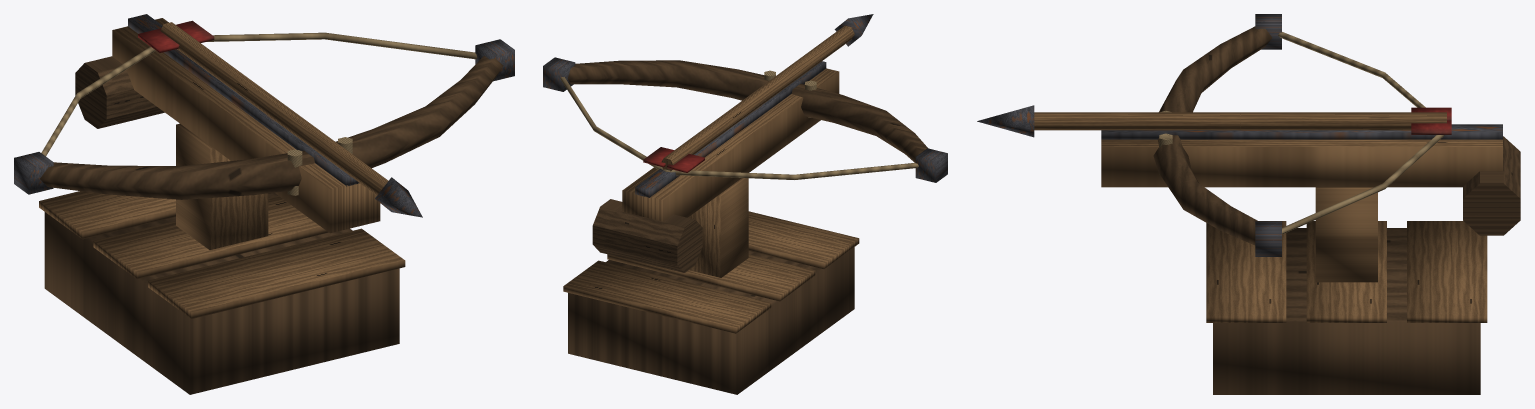
The model's file is fortress_ballista.obj.
3 renders of one model, left to right at view 1: azimuth 30°, elevation 25°; view 2: azimuth 150°, elevation 25°; view 3: azimuth 270°, elevation 25°, orthographic. The views are drawn at different scales.
Visible parts, largest first — view 1: fortress_ballista; view 2: fortress_ballista; view 3: fortress_ballista.
Boxes of the visible parts, x1=… form: fortress_ballista: x1=14, y1=14, x2=514, y2=394; fortress_ballista: x1=543, y1=14, x2=947, y2=394; fortress_ballista: x1=977, y1=14, x2=1520, y2=394.
Size of the model in its own units: 1.45 by 0.75 by 1.52.
